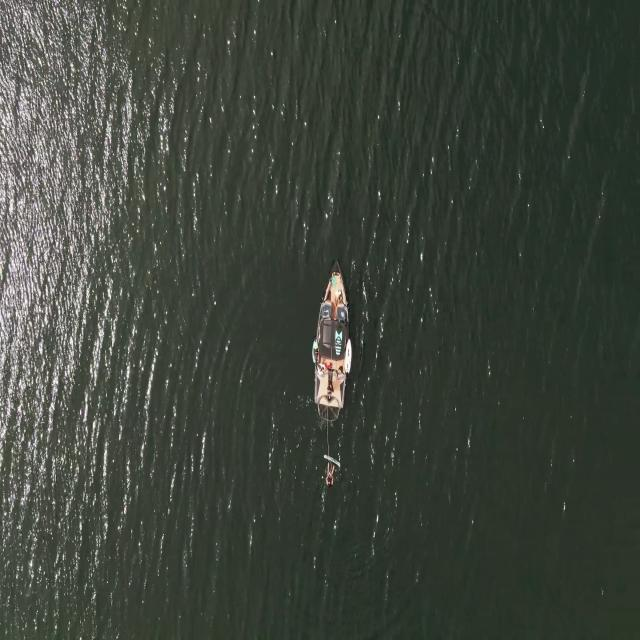ship: (315, 266, 347, 420), (342, 336, 352, 376)
